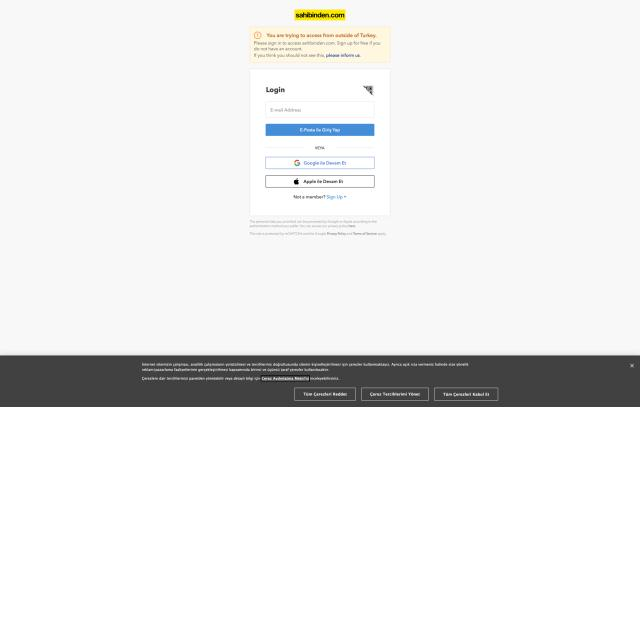CheckBox: (266, 156, 374, 170), (266, 175, 374, 188), (266, 124, 374, 136), (326, 194, 346, 200)
CheckedTextView: (266, 101, 375, 118)
Input field: (248, 218, 388, 240)
ProgressBar: (250, 26, 390, 62)
Spinner: (250, 68, 390, 216)
breadcrumbs: (265, 85, 287, 95)
date picker: (294, 9, 346, 21)
footer: (269, 107, 302, 113)
